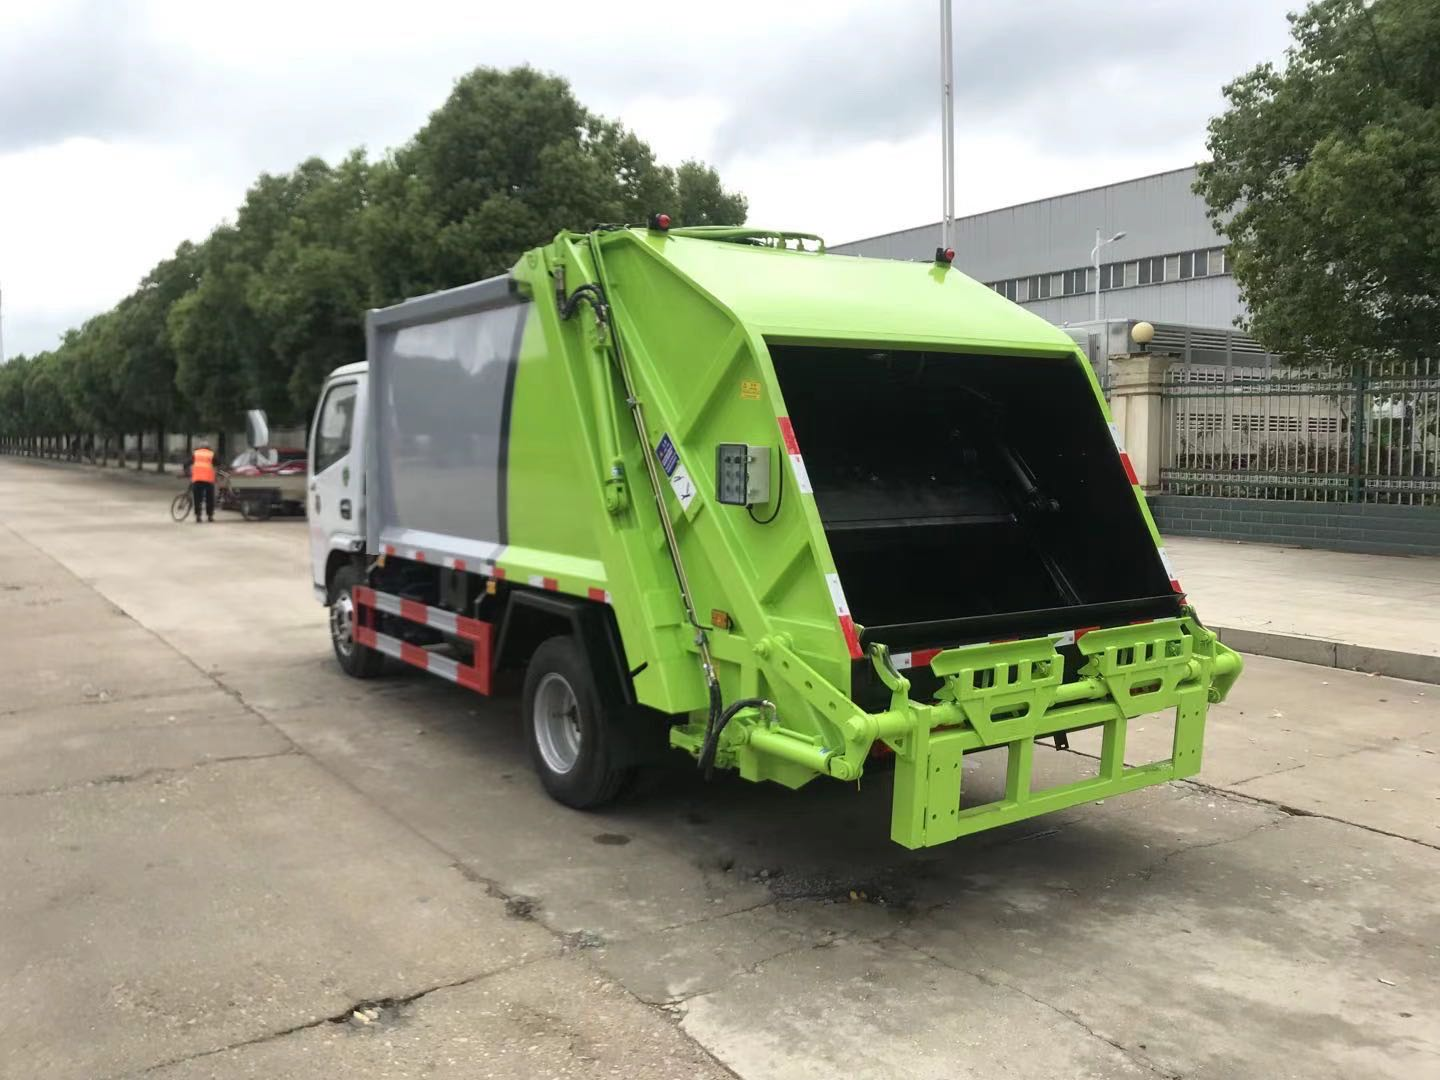garbagetruck: (295, 225, 1256, 846)
